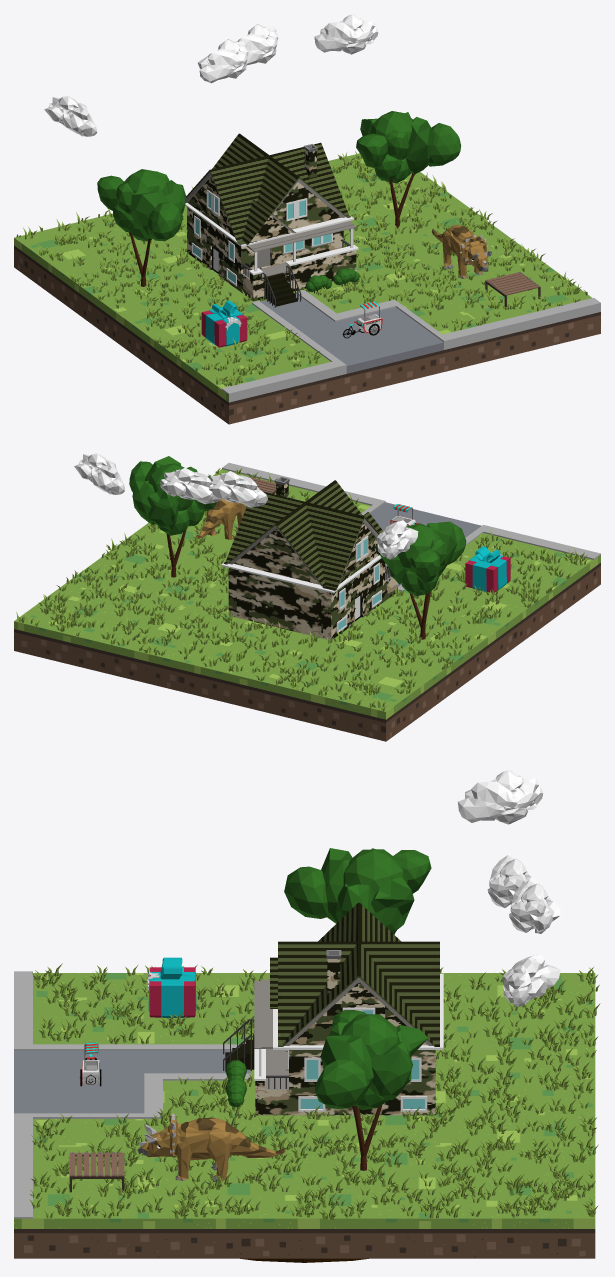
3 renders of one model, top to bottom at view 1: azimuth 30°, elevation 25°; view 2: azimuth 150°, elevation 25°; view 3: azimuth 270°, elevation 25°, orthographic. The views are drawn at different scales.
Parts seen in each view (by area): view 1: Cube.006, Cube.001, Circle.012_Grass_0.192, Cube.007, tree, tree.001, ANIMAL_Triceratops, OBJRANDOM_GIANT_PRESENT, Cube.009, VEHICLES_SNOWBAL_BIKE; view 2: Cube.006, Cube.001, Circle.012_Grass_0.192, Cube.007, tree.001, tree, OBJRANDOM_GIANT_PRESENT, ANIMAL_Triceratops; view 3: Cube.006, Circle.012_Grass_0.192, Cube.001, tree, Cube.007, tree.001, ANIMAL_Triceratops, OBJRANDOM_GIANT_PRESENT, Cube.009, VEHICLES_SNOWBAL_BIKE.
Part boxes in pixels (x1,y1,x2,y2): Cube.006: (14, 153, 600, 424); Cube.001: (185, 133, 358, 307); Circle.012_Grass_0.192: (16, 151, 587, 386); Cube.007: (44, 14, 378, 136); tree: (356, 111, 460, 228); tree.001: (97, 169, 186, 286); ANIMAL_Triceratops: (432, 224, 491, 278); OBJRANDOM_GIANT_PRESENT: (201, 300, 247, 347); Cube.009: (485, 272, 540, 306); VEHICLES_SNOWBAL_BIKE: (342, 301, 382, 338); Cube.006: (14, 463, 600, 741); Cube.001: (221, 477, 397, 640); Circle.012_Grass_0.192: (16, 468, 587, 711); Cube.007: (74, 453, 418, 559); tree.001: (374, 521, 466, 639); tree: (129, 456, 216, 577); OBJRANDOM_GIANT_PRESENT: (465, 546, 510, 592); ANIMAL_Triceratops: (196, 499, 246, 539); Cube.006: (14, 971, 595, 1258); Circle.012_Grass_0.192: (29, 963, 600, 1219); Cube.001: (223, 902, 443, 1115); tree: (314, 1010, 427, 1170); Cube.007: (457, 770, 560, 1006); tree.001: (284, 848, 431, 934); ANIMAL_Triceratops: (137, 1113, 285, 1182); OBJRANDOM_GIANT_PRESENT: (147, 957, 196, 1017); Cube.009: (69, 1152, 124, 1192); VEHICLES_SNOWBAL_BIKE: (79, 1042, 101, 1086).
Size of the model in its own units: 4071 by 2242 by 4040.
Materials: 38 (5 with a texture image).
